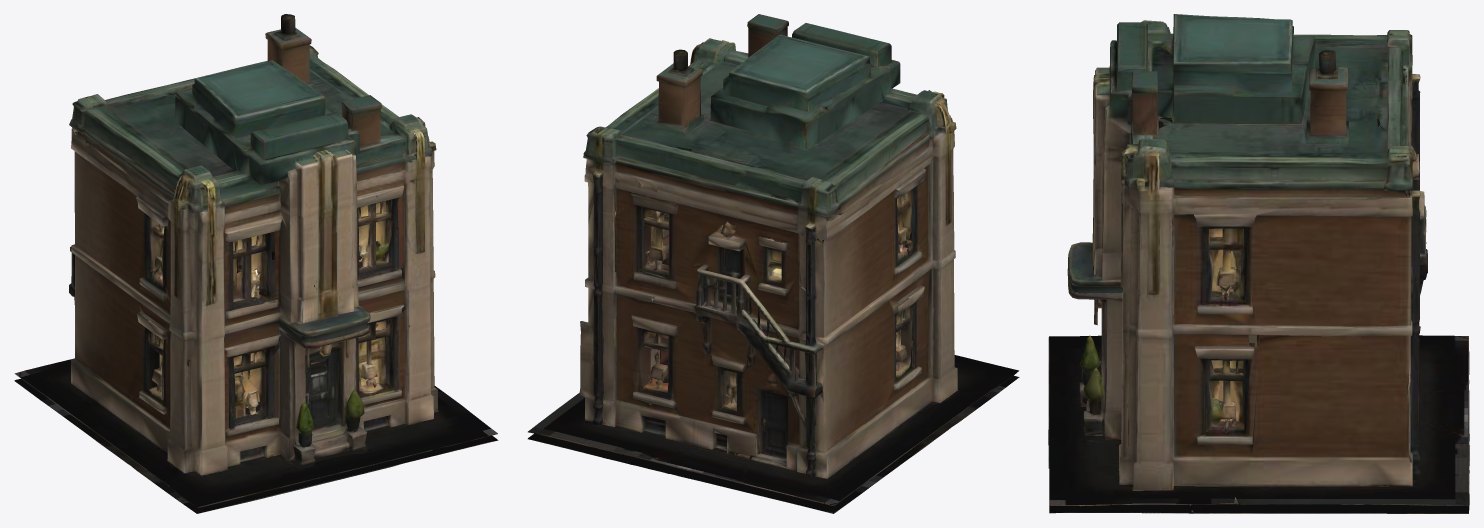
The picture shows the model from 3 angles, left to right: view 1: azimuth 30°, elevation 25°; view 2: azimuth 150°, elevation 25°; view 3: azimuth 270°, elevation 25°; orthographic projection. The views are drawn at different scales.
Visible parts, largest first — view 1: expansion__tower_2__native_mobile; view 2: expansion__tower_2__native_mobile; view 3: expansion__tower_2__native_mobile.
Part boxes in pixels (<box>): expansion__tower_2__native_mobile: <box>14,14,498,513</box>; expansion__tower_2__native_mobile: <box>528,14,1019,513</box>; expansion__tower_2__native_mobile: <box>1048,14,1469,513</box>.
Bounding box in the file's own units: 0.884 × 1 × 0.9296.
Materials: 1 (1 with a texture image).
